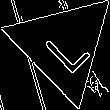L_NW: (34, 17, 91, 75)
